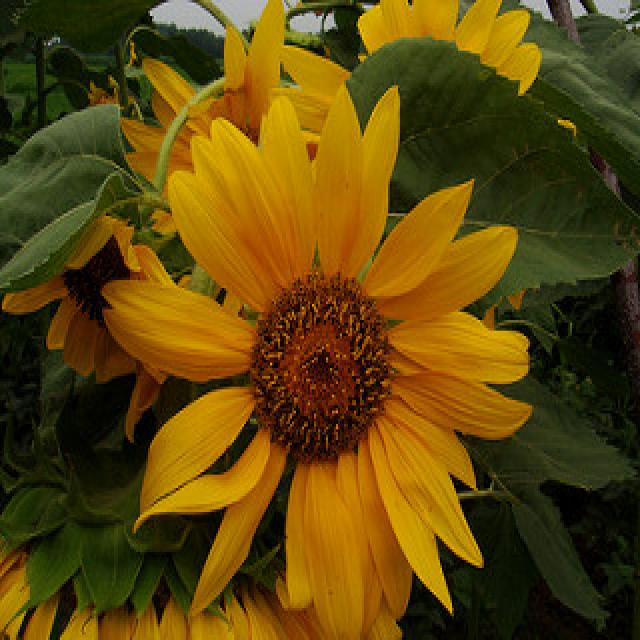sunflower: (101, 94, 533, 640)
